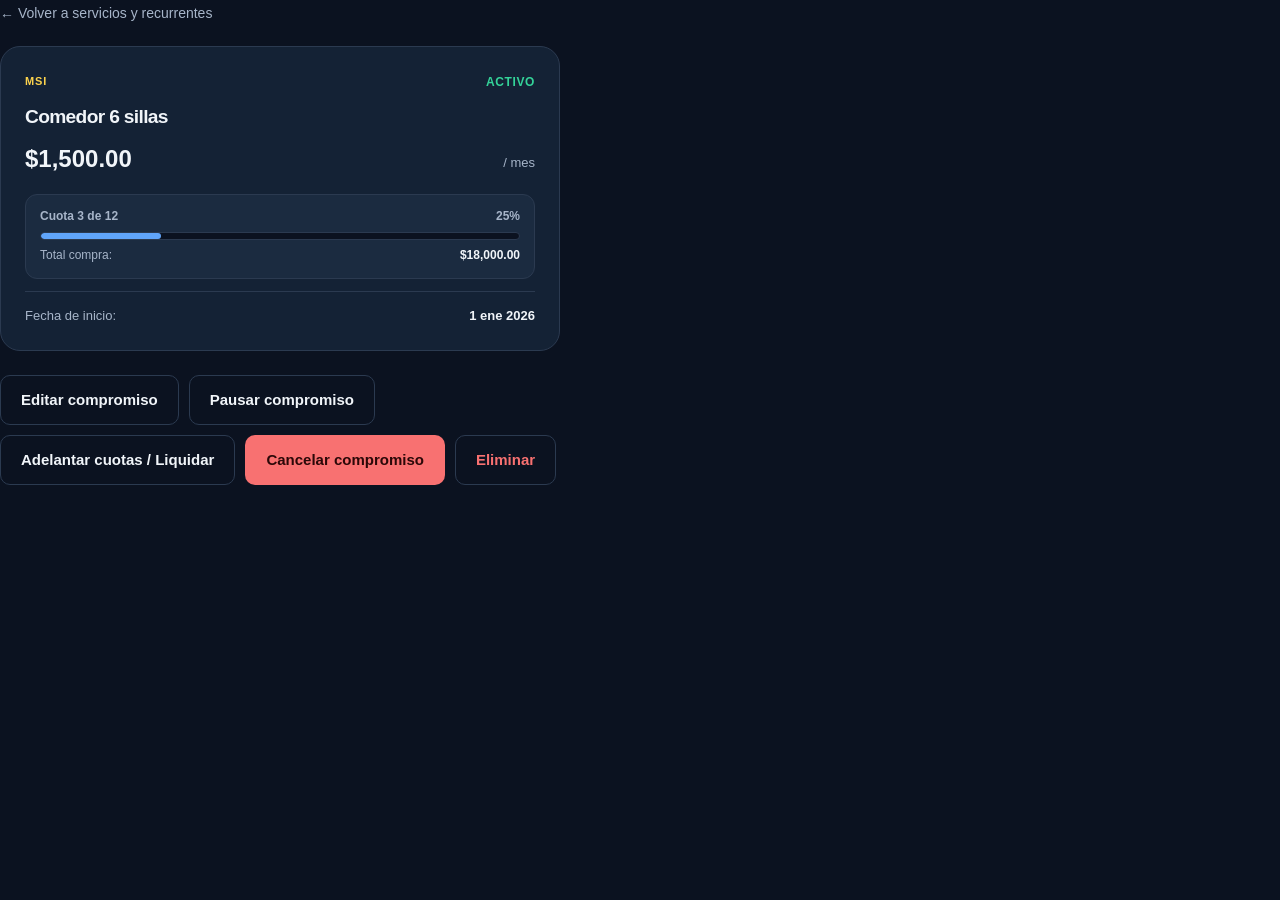
Test case: RecurringDetail › shows MSI advance button and opens advance modal
Click the button "Adelantar cuotas / Liquidar". click: (118, 460)
box: x1=0 y1=435 x2=235 y2=485
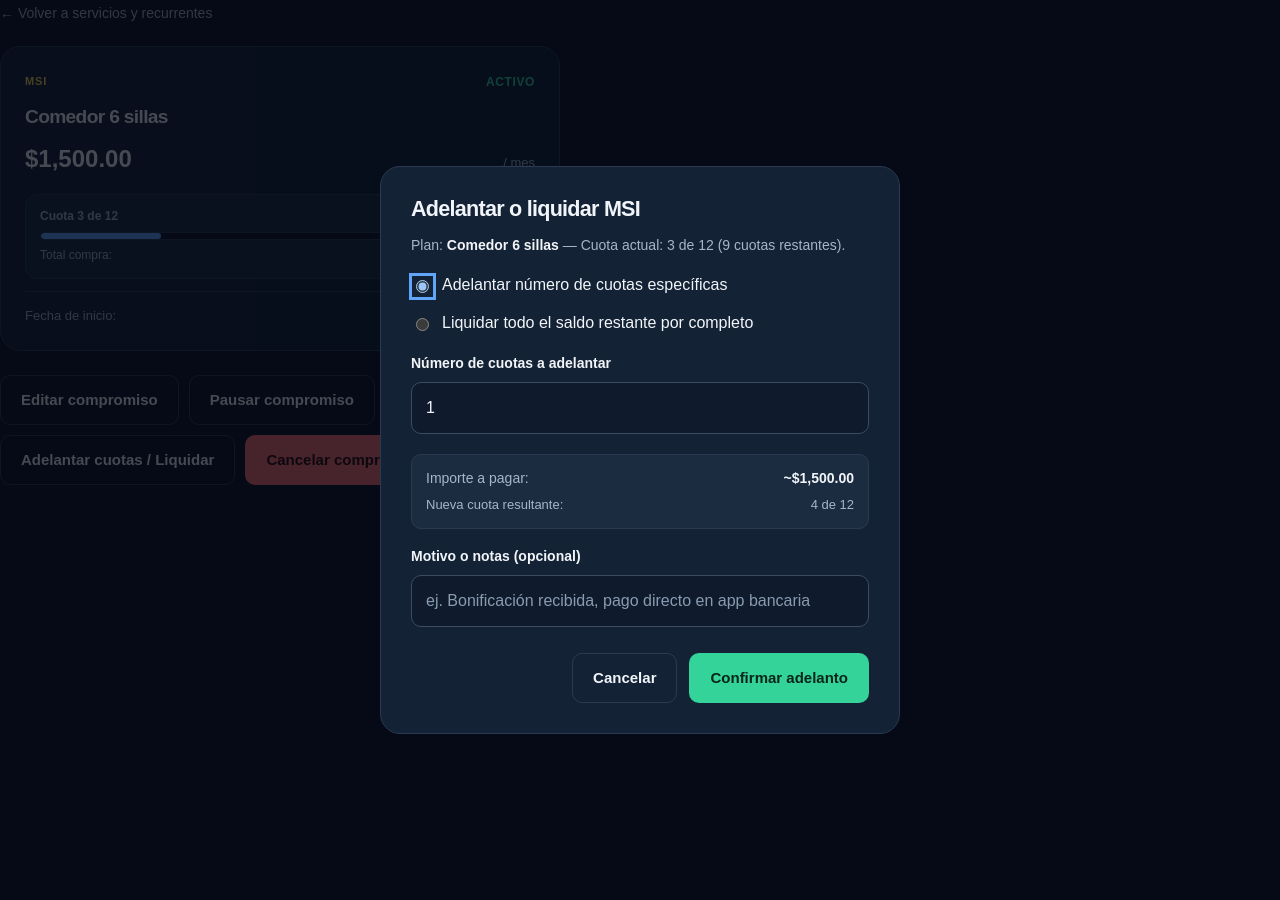
Expected: the heading "Adelantar o liquidar MSI" is shown, x1=411 y1=196 x2=640 y2=221
